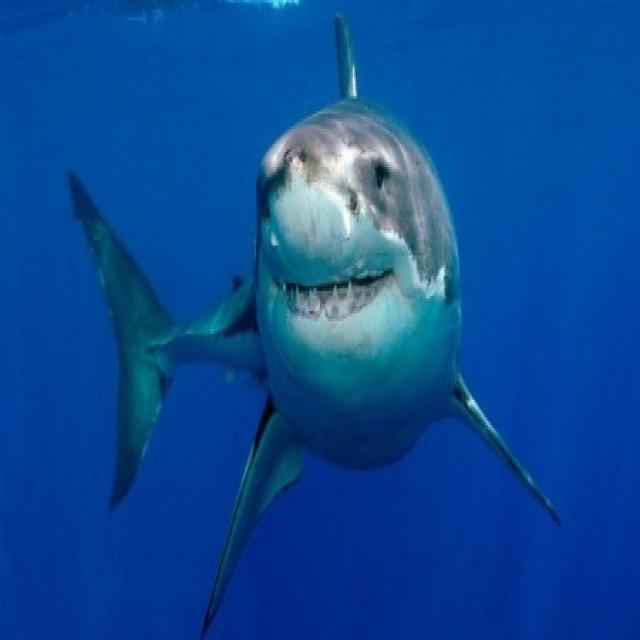Carnivorous: (68, 15, 565, 640)
